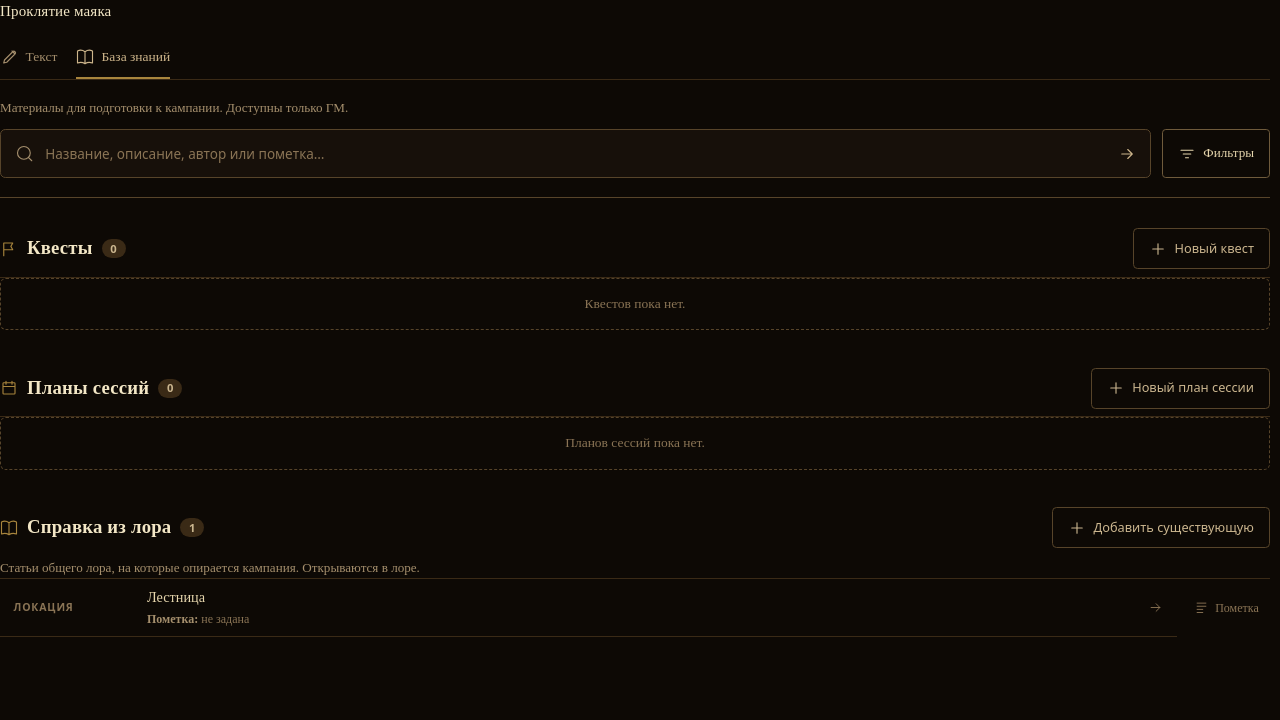
it: public campaign knowledge base › labels adding a note separately and can remove a lore reference without deleting the article
This screenshot has width=1280, height=720.
Click the button with aria-label "Добавить пометку: Лестница".
click(1226, 608)  # box x1=1183 y1=578 x2=1270 y2=637
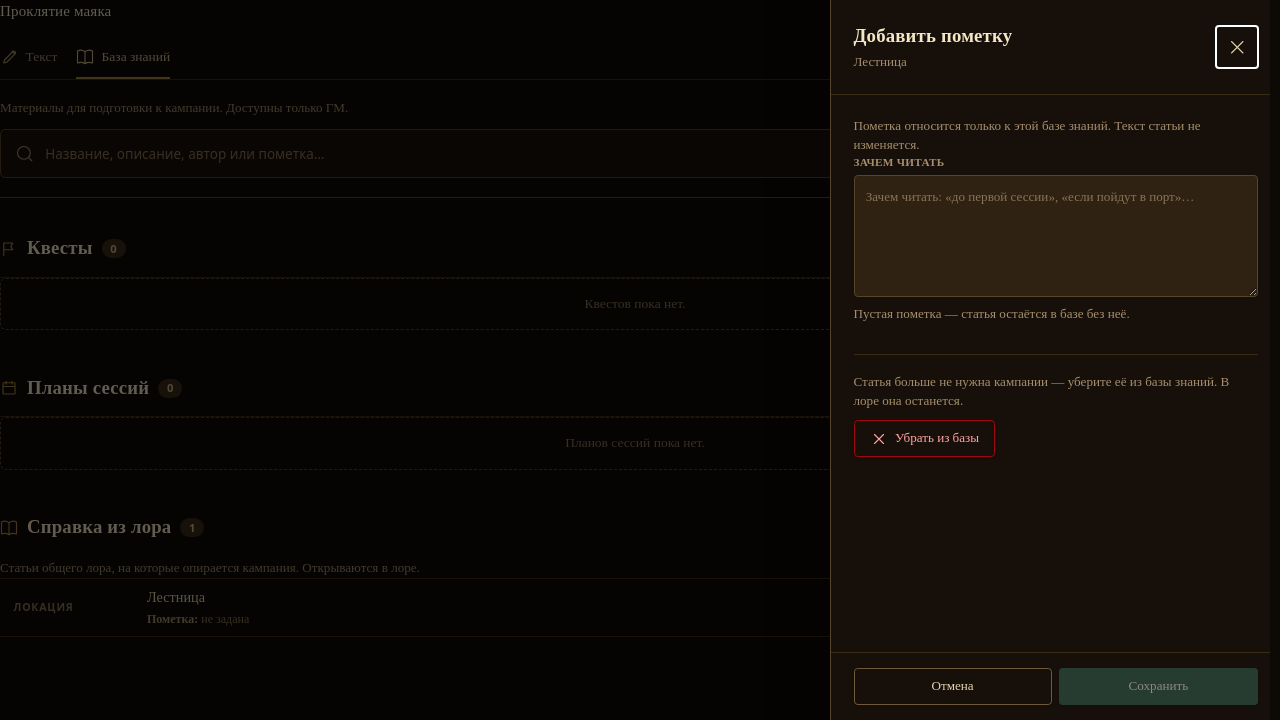
Expected: the text box labelled "Зачем читать" is empty, x1=854 y1=175 x2=1258 y2=297
Expected: the text "В лоре она останется." is shown, x1=854 y1=374 x2=1229 y2=408
Click the button "Убрать из базы".
click(924, 439)  # box x1=854 y1=420 x2=995 y2=457
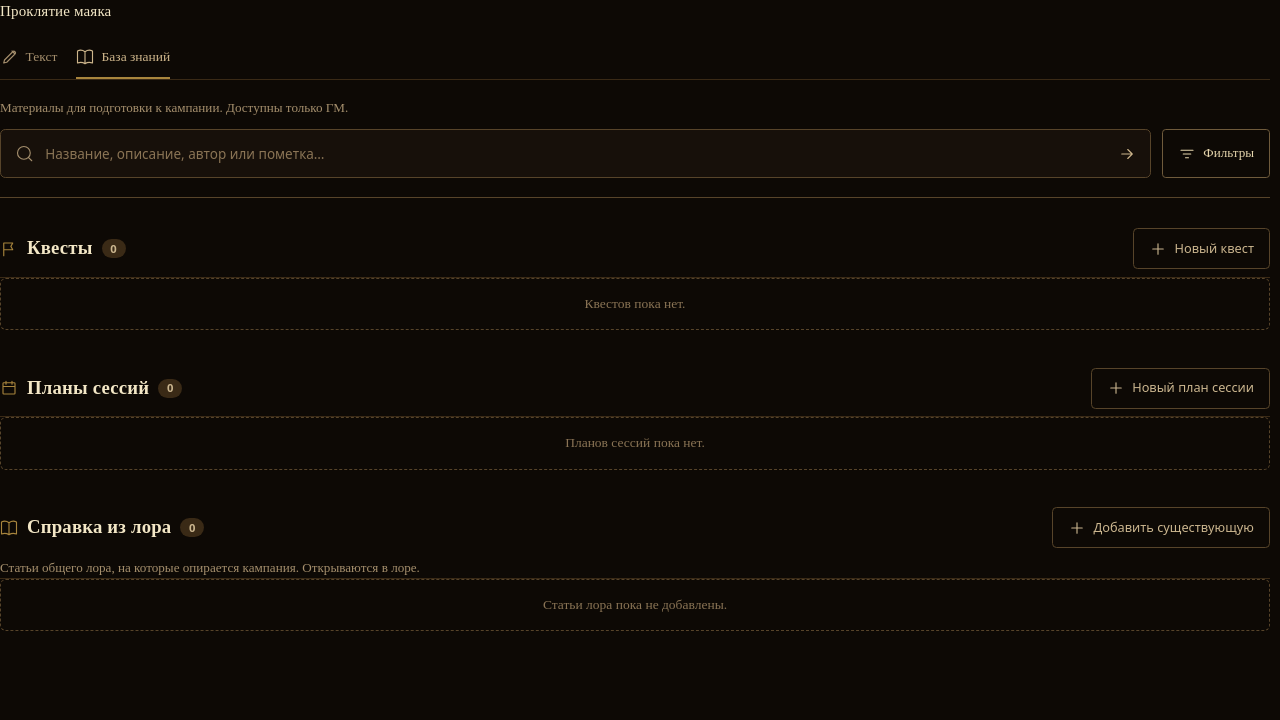
Expected: the link "Лестница" is gone
